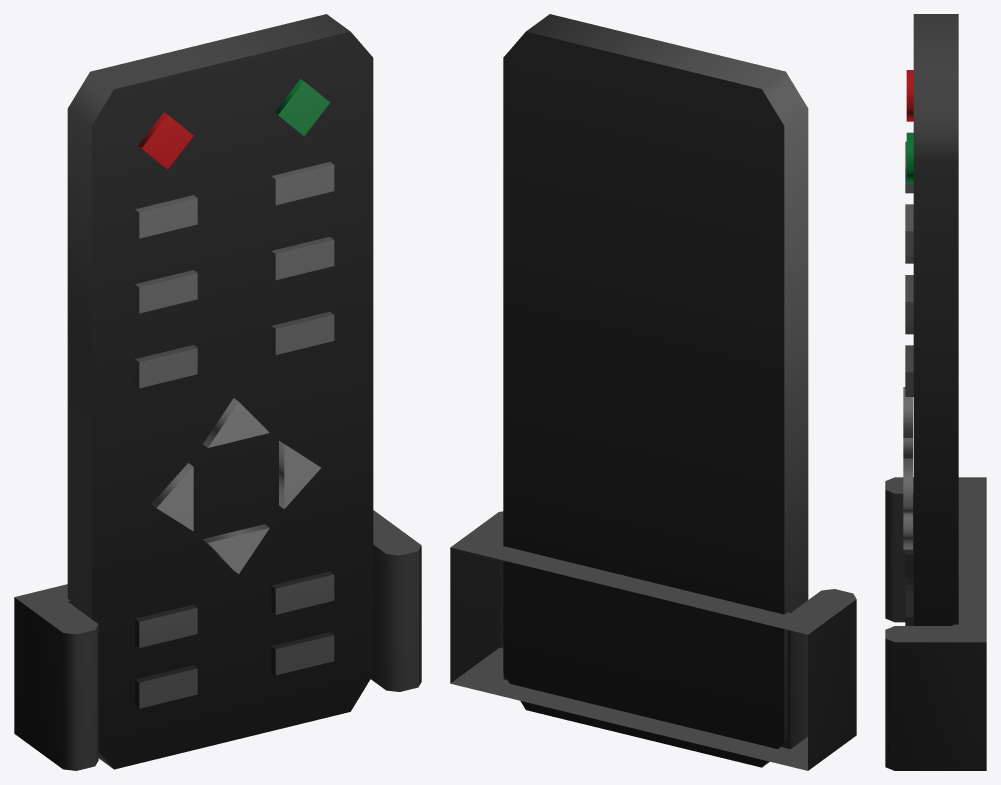
File: CR_Remotecontrol_001.FBX
The picture shows the model from 3 angles, left to right: view 1: azimuth 30°, elevation 25°; view 2: azimuth 150°, elevation 25°; view 3: azimuth 270°, elevation 25°; orthographic projection. The views are drawn at different scales.
Parts seen in each view (by area): view 1: CR_Remotecontrol_001; view 2: CR_Remotecontrol_001; view 3: CR_Remotecontrol_001.
Part boxes in pixels (<box>): CR_Remotecontrol_001: <box>14,14,421,770</box>; CR_Remotecontrol_001: <box>450,14,856,770</box>; CR_Remotecontrol_001: <box>885,14,986,770</box>.
Bounding box in the file's own units: 6.38 × 11.56 × 1.66.
1 material, 1 textured.
